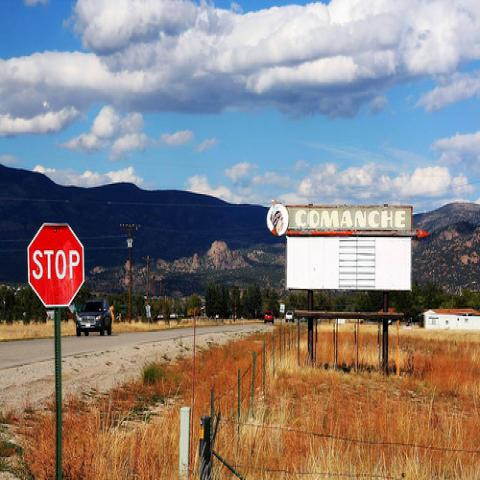car: (77, 299, 114, 335), (264, 310, 274, 324), (286, 311, 293, 322)
